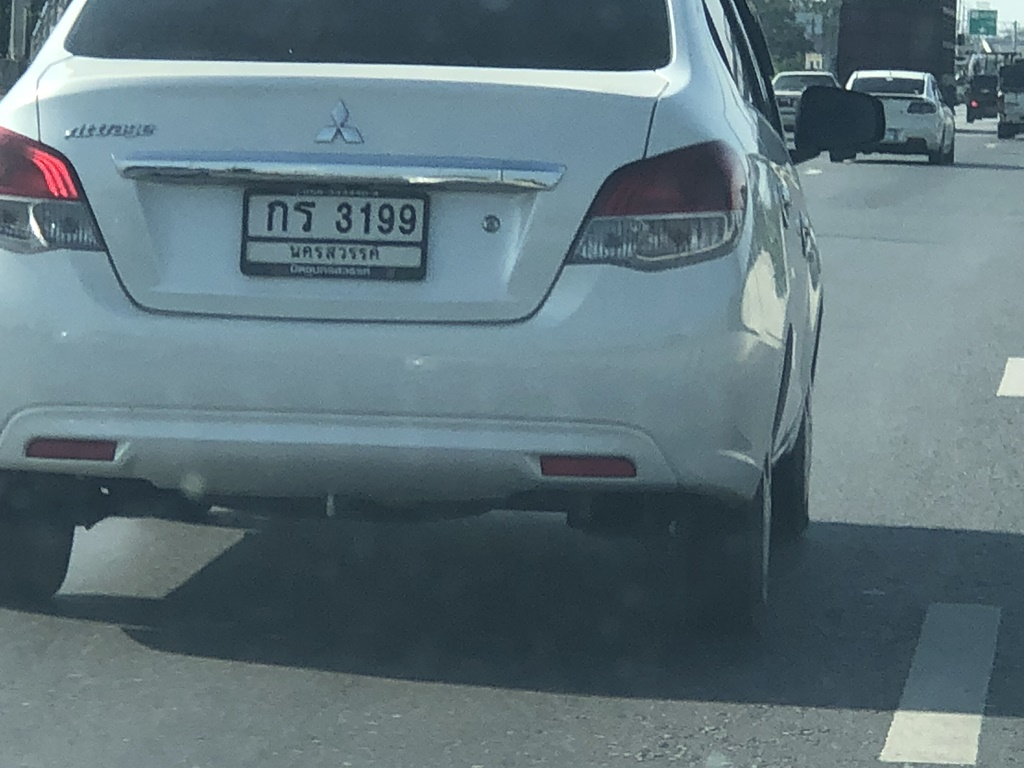nine: (388, 195, 421, 243), (368, 192, 398, 242)
one: (354, 195, 375, 245)
three: (324, 199, 354, 240)
